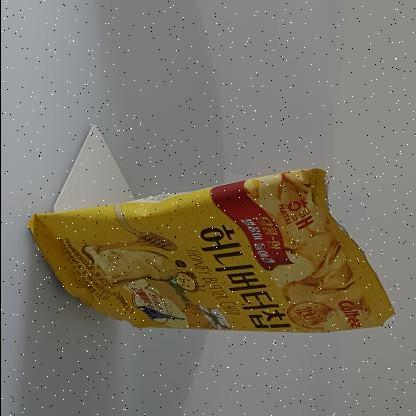Others: (22, 161, 402, 349)
